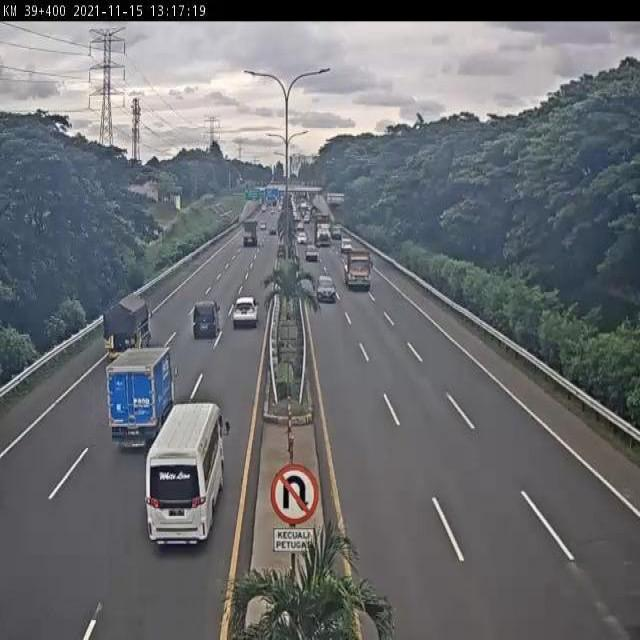bus-s-: (144, 400, 227, 547)
car: (191, 296, 221, 341), (230, 294, 261, 329), (315, 272, 339, 307)
small truck: (343, 248, 374, 295)
truck-m-: (108, 343, 176, 452), (102, 292, 154, 367)
